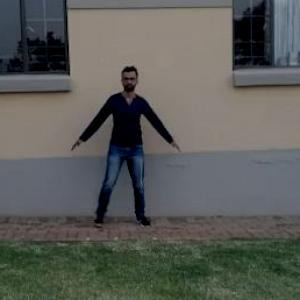land: (67, 71, 178, 239)
